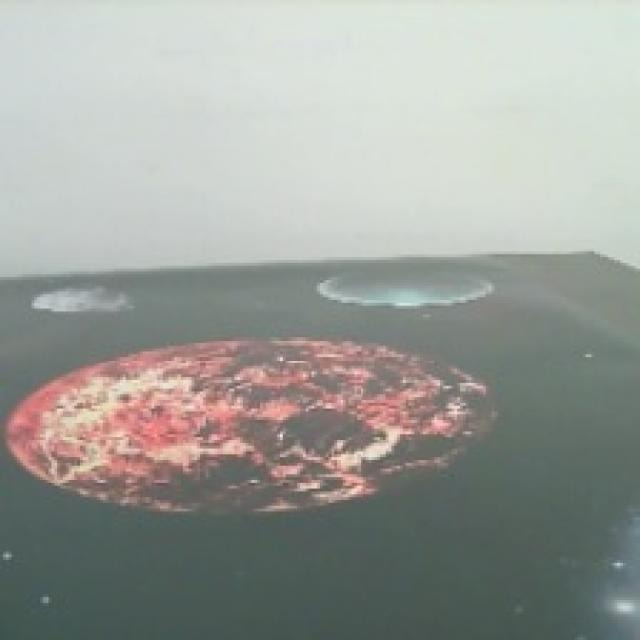Asteroid: (35, 279, 136, 315)
Earth: (318, 268, 493, 310)
Sun: (4, 334, 496, 520)
